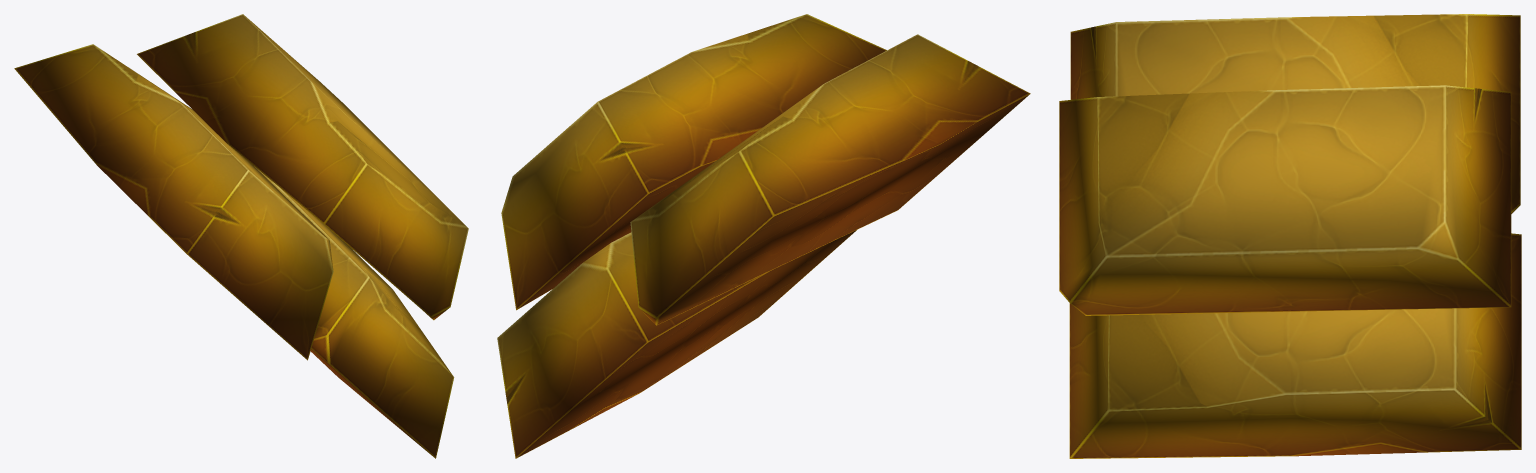
File: gold_modified.fbx
3 views of the same model, side by side, from view 1: azimuth 30°, elevation 25°; view 2: azimuth 150°, elevation 25°; view 3: azimuth 270°, elevation 25° (orthographic). The views are drawn at different scales.
Parts seen in each view (by area): view 1: Gold-05; view 2: Gold-05; view 3: Gold-05.
Part boxes in pixels (x1,y1,x2,y2): Gold-05: [14, 14, 468, 458]; Gold-05: [497, 14, 1030, 458]; Gold-05: [1059, 14, 1521, 458].
Bounding box in the file's own units: 13.32 × 13.2 × 15.32.
1 material, 1 textured.
